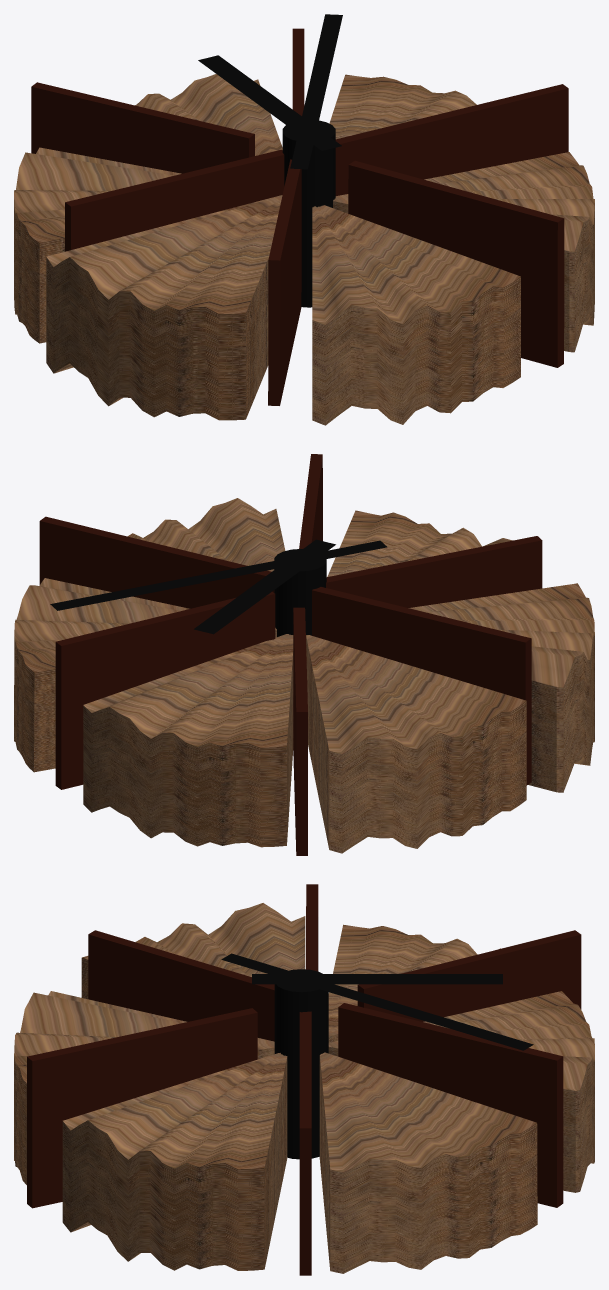
The model's file is Clock_typeA.FBX.
3 views of the same model, one above another, from view 1: azimuth 30°, elevation 25°; view 2: azimuth 150°, elevation 25°; view 3: azimuth 270°, elevation 25° (orthographic). The views are drawn at different scales.
Parts seen in each view (by area): view 1: Cylinder001, Box006, Box001, Box003, Box005, Box004, core, MINUTE, HOUR, Box002; view 2: Cylinder001, Box002, Box005, Box001, Box004, Box003, MINUTE, core, HOUR, Box006; view 3: Cylinder001, Box006, Box002, Box004, Box003, core, Box001, MINUTE, HOUR, Box005.
Part boxes in pixels (x1=…): Cylinder001: x1=14, y1=74, x2=594, y2=425; Box006: x1=348, y1=160, x2=564, y2=367; Box001: x1=335, y1=84, x2=568, y2=195; Box003: x1=31, y1=82, x2=254, y2=173; Box005: x1=65, y1=149, x2=284, y2=251; Box004: x1=268, y1=159, x2=301, y2=405; core: x1=282, y1=120, x2=335, y2=307; MINUTE: x1=290, y1=14, x2=342, y2=169; HOUR: x1=198, y1=55, x2=341, y2=150; Box002: x1=292, y1=28, x2=304, y2=115; Cylinder001: x1=14, y1=498, x2=594, y2=853; Box002: x1=55, y1=591, x2=275, y2=789; Box005: x1=312, y1=587, x2=531, y2=785; Box001: x1=39, y1=516, x2=274, y2=608; Box004: x1=326, y1=536, x2=542, y2=607; Box003: x1=293, y1=607, x2=307, y2=855; MINUTE: x1=50, y1=540, x2=387, y2=610; core: x1=274, y1=549, x2=326, y2=636; HOUR: x1=194, y1=539, x2=335, y2=634; Box006: x1=299, y1=454, x2=322, y2=548; Cylinder001: x1=14, y1=903, x2=594, y2=1273; Box006: x1=27, y1=1008, x2=257, y2=1208; Box002: x1=338, y1=1003, x2=563, y2=1207; Box004: x1=88, y1=930, x2=274, y2=1041; Box003: x1=357, y1=930, x2=581, y2=1021; core: x1=274, y1=969, x2=328, y2=1159; Box001: x1=299, y1=1011, x2=311, y2=1275; MINUTE: x1=221, y1=953, x2=533, y2=1050; HOUR: x1=252, y1=974, x2=502, y2=984; Box005: x1=306, y1=884, x2=318, y2=971.
Size of the model in its own units: 0.1513 by 0.1448 by 0.0507.
3 materials, 1 textured.
